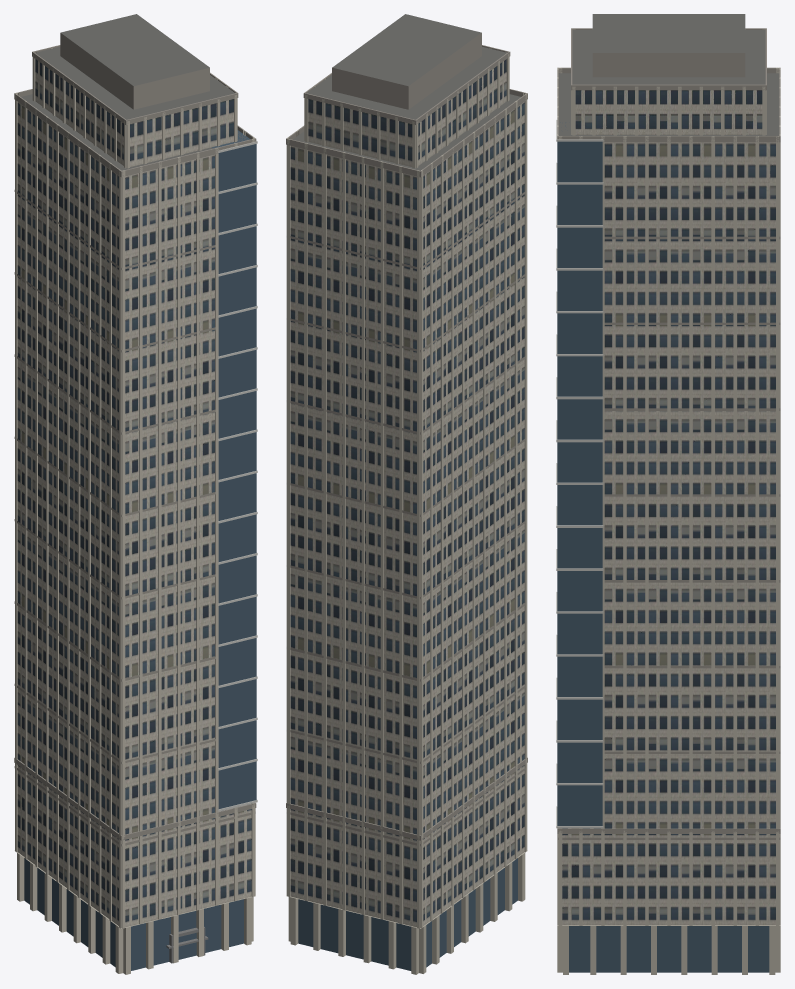
The model's file is st_regis_sf.glb.
3 views of the same model, side by side, from view 1: azimuth 30°, elevation 25°; view 2: azimuth 150°, elevation 25°; view 3: azimuth 270°, elevation 25° (orthographic). The views are drawn at different scales.
Parts seen in each view (by area): view 1: st_regis_sf; view 2: st_regis_sf; view 3: st_regis_sf.
Part boxes in pixels (x1=…): st_regis_sf: x1=14, y1=14, x2=257, y2=974; st_regis_sf: x1=286, y1=14, x2=527, y2=974; st_regis_sf: x1=556, y1=14, x2=780, y2=974.
Bounding box in the file's own units: 24.17 × 148 × 33.17.
2 materials, 2 textured.
